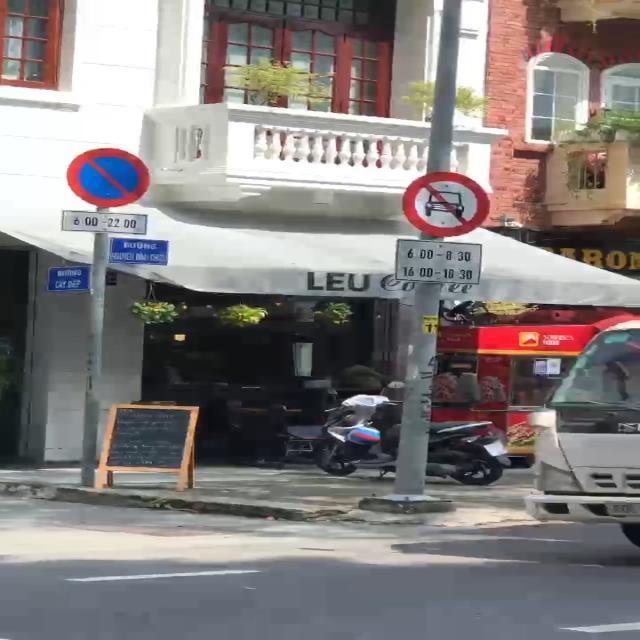Bien bao cam do xe: (64, 144, 155, 210)
Bien bao cam xe oto: (400, 168, 495, 239)
